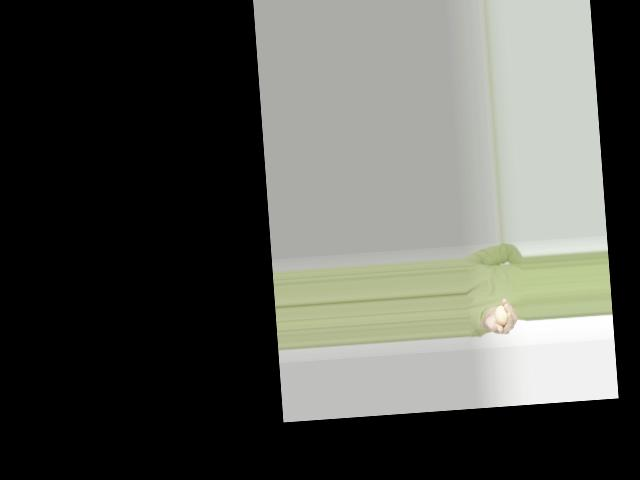egg: (494, 304, 508, 325)
